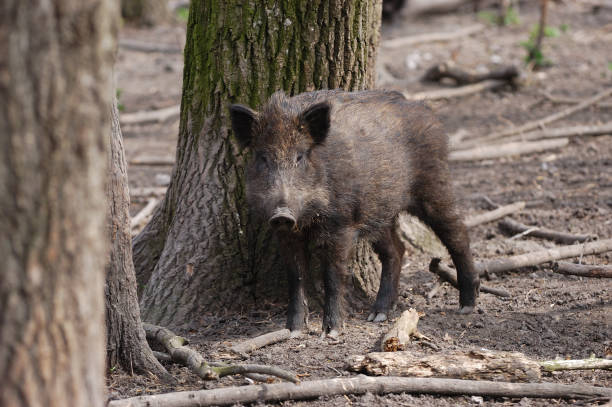pig: (245, 99, 483, 313)
